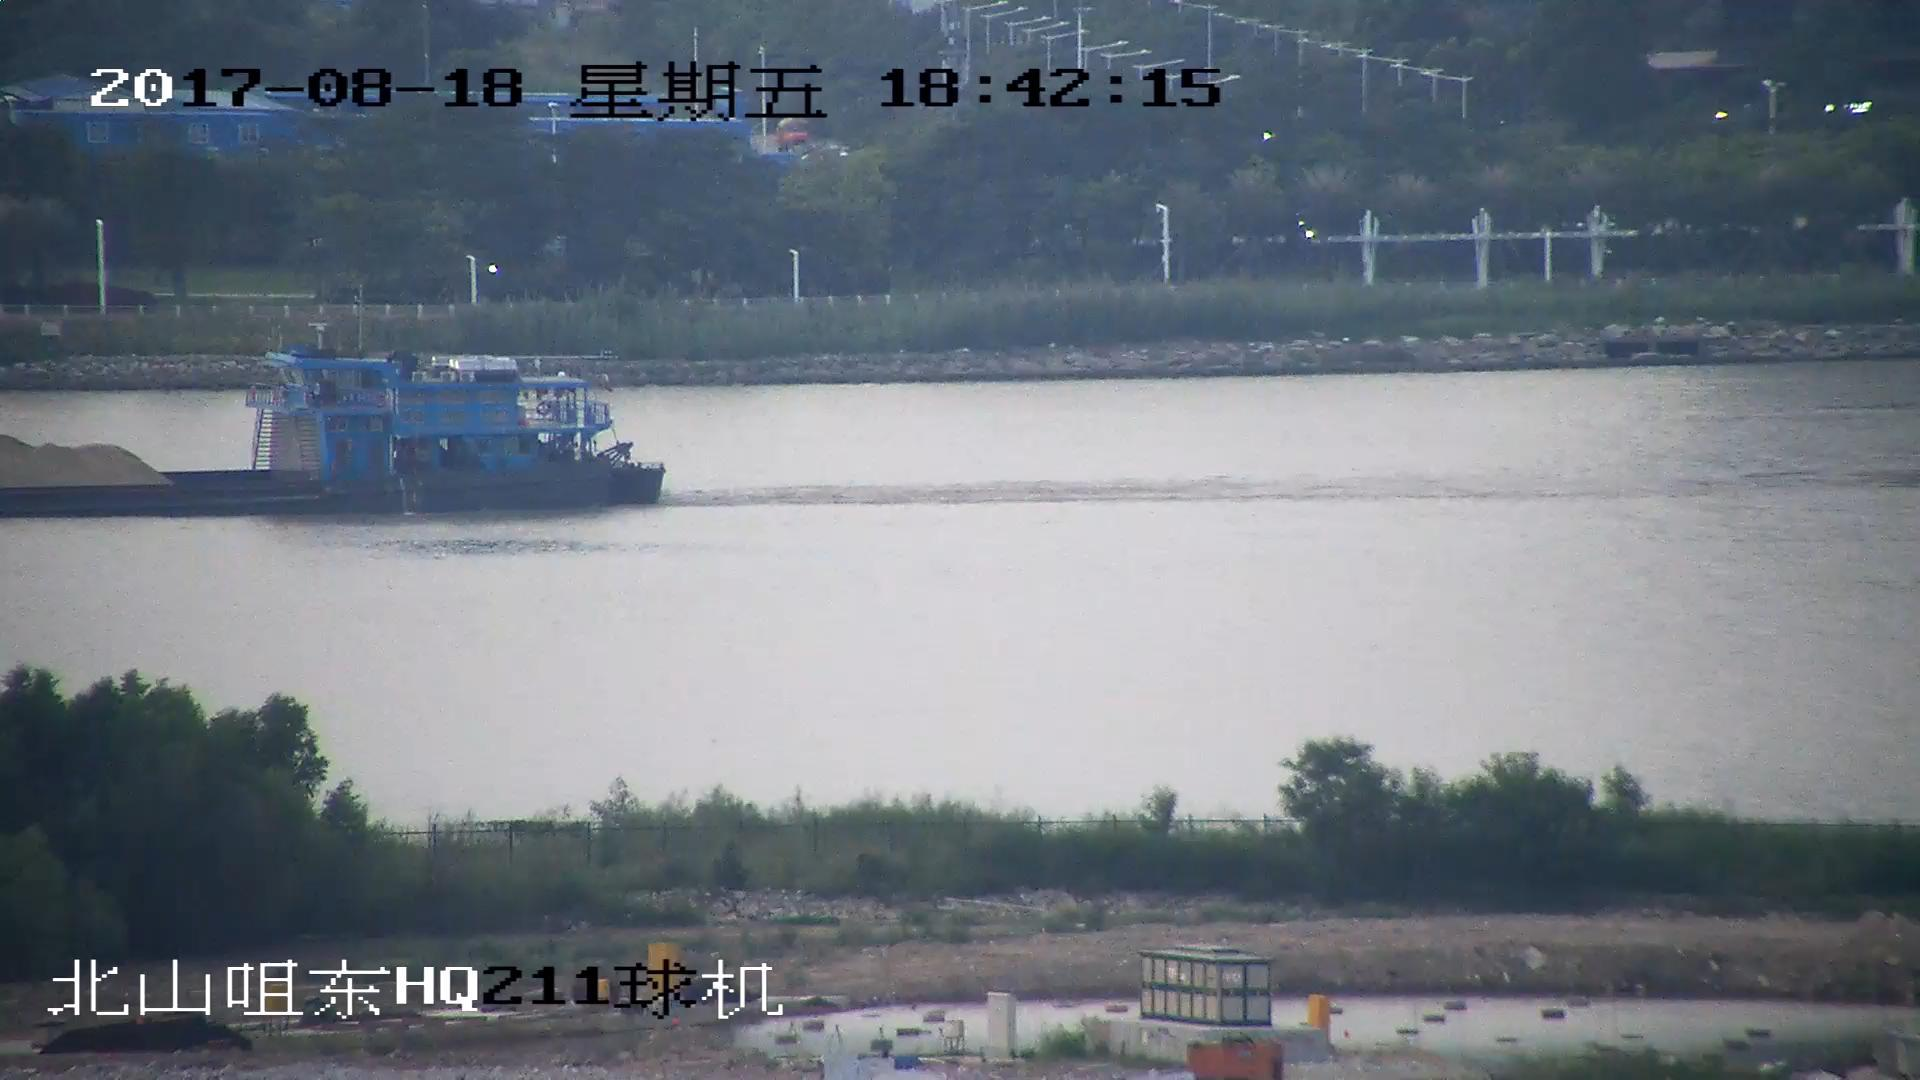Ship: (3, 331, 663, 520)
